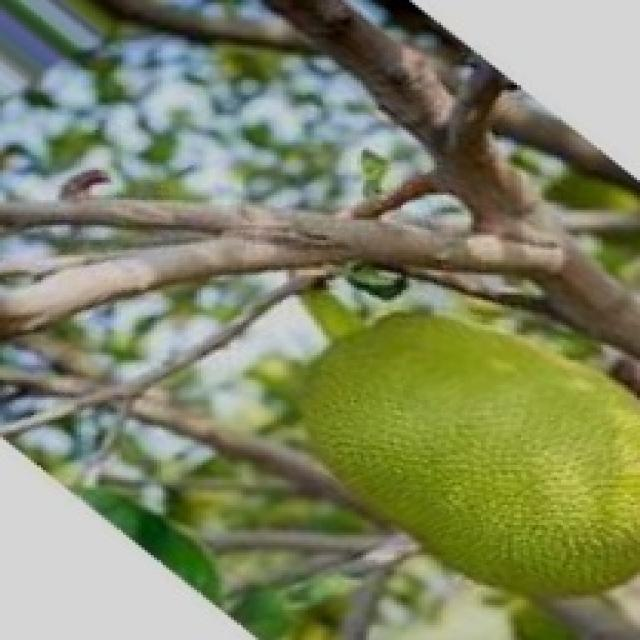Fruit: (271, 288, 640, 628)
